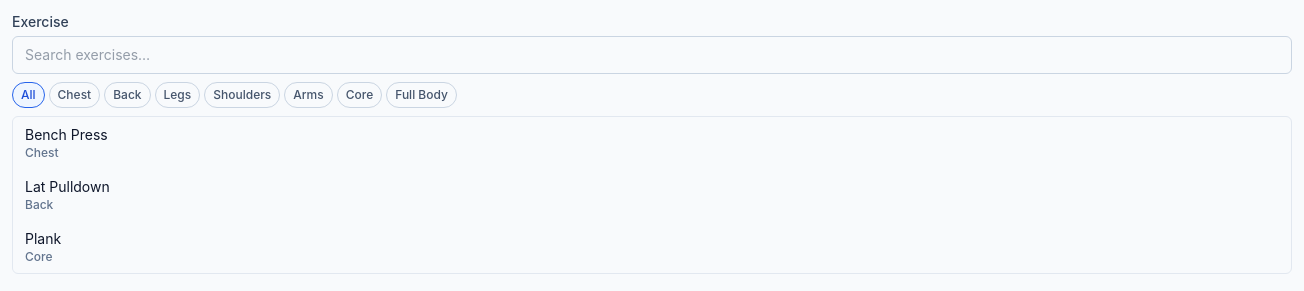
ExercisePicker › shows an empty state when no exercise matches the active filters
Type "deadlift" into the field with placeholder "Search exercises…" at (652,55), box [12, 36, 1292, 74]
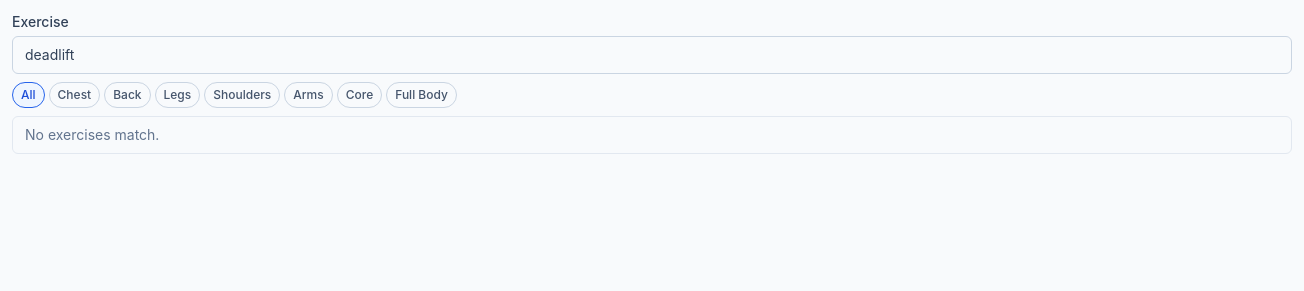
Expected: the text "No exercises match." is shown, [25, 126, 159, 143]
